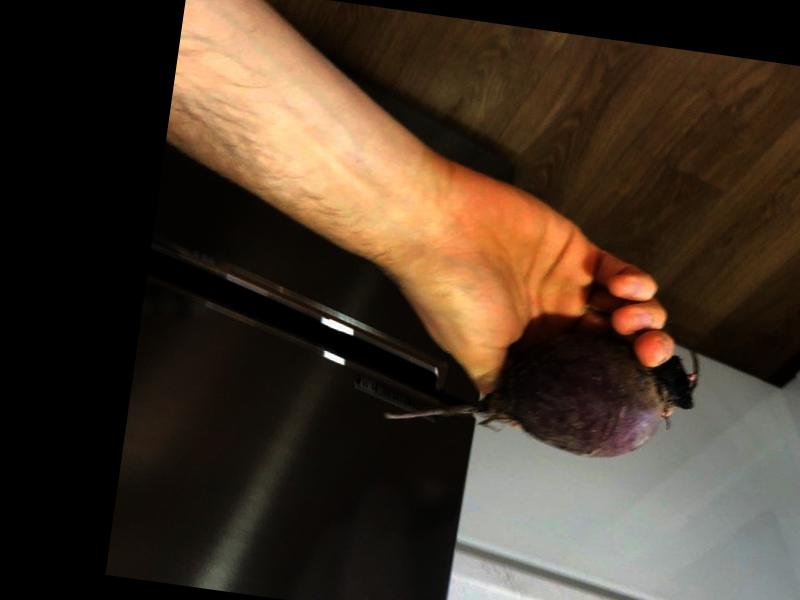Beet: (383, 307, 703, 470)
